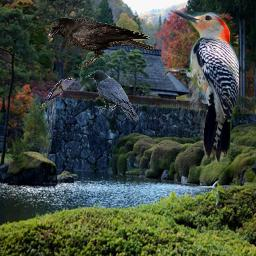Crow: (46, 17, 154, 69), (85, 70, 140, 123)
Cuckoo: (40, 78, 76, 109)
Woodpecker: (162, 12, 239, 163)
